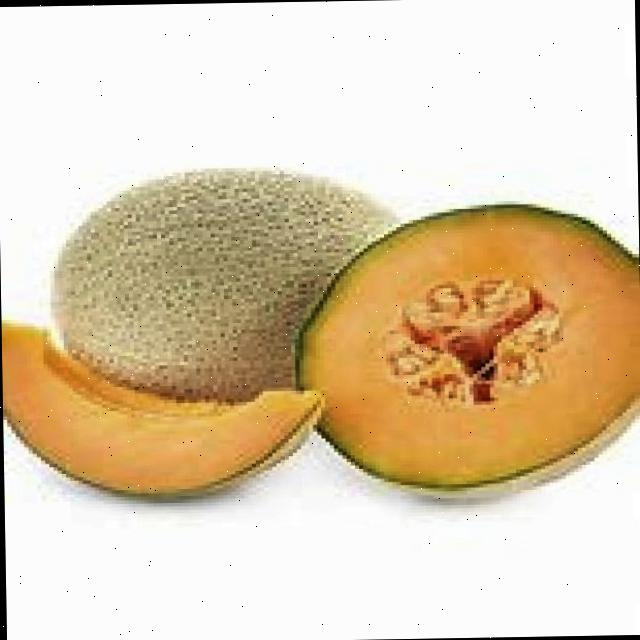Hami Melon: (298, 197, 640, 505), (46, 165, 408, 402)
